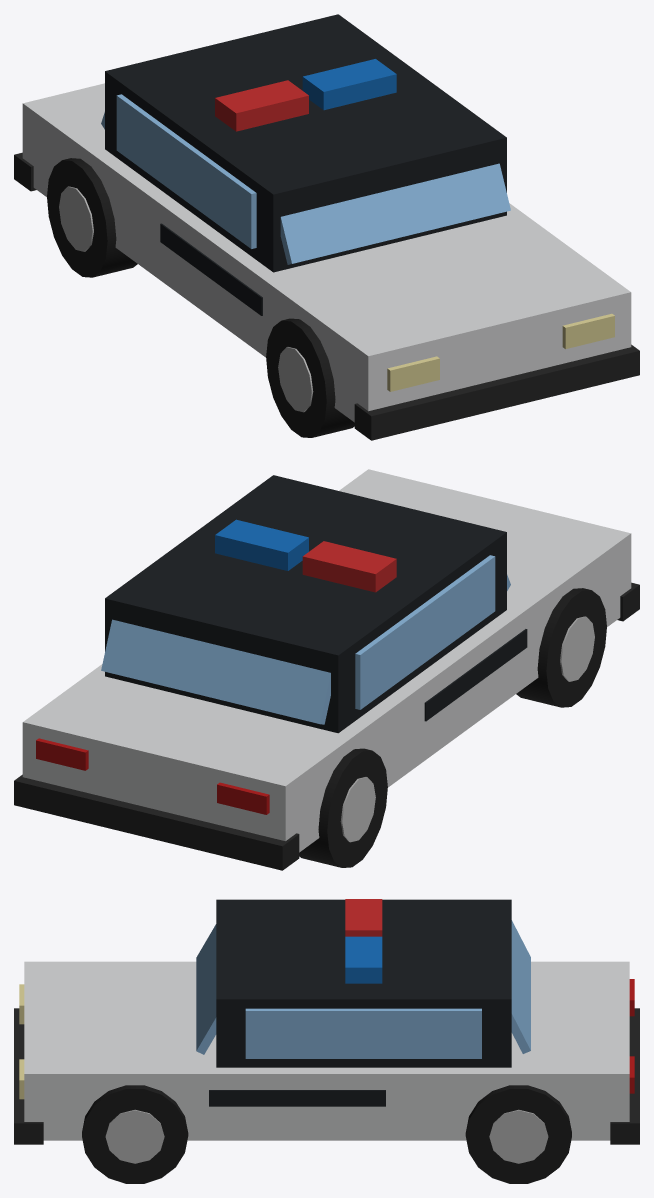
The model's file is police.glb.
3 renders of one model, top to bottom at view 1: azimuth 30°, elevation 25°; view 2: azimuth 150°, elevation 25°; view 3: azimuth 270°, elevation 25°, orthographic. The views are drawn at different scales.
Parts seen in each view (by area): view 1: police-body, wheel_RR, wheel_FR; view 2: police-body, wheel_FR, wheel_RR; view 3: police-body, wheel_FL, wheel_RL.
Boxes of the visible parts, x1,y1,x2,y2 form: police-body: (14, 14, 639, 440); wheel_RR: (47, 158, 137, 277); wheel_FR: (266, 318, 354, 437); police-body: (14, 469, 639, 870); wheel_FR: (516, 588, 606, 707); wheel_RR: (299, 748, 387, 867); police-body: (14, 899, 639, 1144); wheel_FL: (82, 1085, 188, 1183); wheel_RL: (465, 1085, 571, 1183).
Size of the model in its own units: 1.94 by 1.42 by 4.24.
